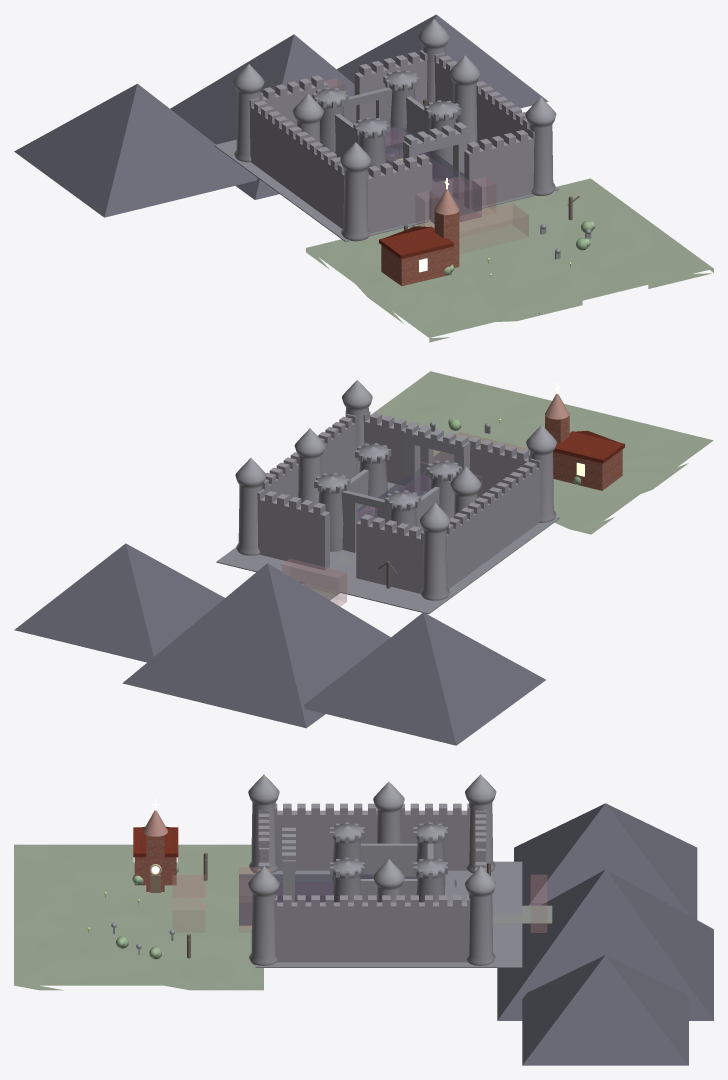
File: doubting_castle.glb
The picture shows the model from 3 angles, top to bottom: view 1: azimuth 30°, elevation 25°; view 2: azimuth 150°, elevation 25°; view 3: azimuth 270°, elevation 25°; orthographic projection.
Parts seen in each view (by area): view 1: ENV_Doubting_ByPathMeadow, VIS_PROP_Ridge_Storm (×3), PROP_CastleWall_Left, VIS_PROP_Chapel (×3), PROP_CastleWall_FrontR, PROP_CastleWall_FrontL, TRIGGER_ByPathChoice, ENV_Doubting_CastleExterior, COL_CastleDarkHall, PROP_CastleTower_FrontLeft, TRIGGER_Capture, PROP_CastleTower_FrontRight (+16 smaller); view 2: VIS_PROP_Ridge_Storm (×3), ENV_Doubting_ByPathMeadow, ENV_Doubting_CastleExterior, PROP_CastleWall_Left, PROP_CastleWall_BackR, PROP_CastleWall_BackL, VIS_PROP_Chapel (×2), PROP_CastleTower_BackLeft, PROP_CastleWall_Right, PROP_CastleTower_BackRight, PROP_CastleWall_FrontR, TRIGGER_Exit_DelectableMountains (+12 smaller); view 3: VIS_PROP_Ridge_Storm (×3), ENV_Doubting_ByPathMeadow, PROP_CastleWall_Right, PROP_CastleWall_Left, ENV_Doubting_CastleExterior, PROP_CastleTower_FrontRight, PROP_CastleTower_BackRight, VIS_PROP_Chapel (×3), TRIGGER_ByPathChoice, COL_CastleDarkHall, PROP_CastleTower_FrontLeft, PROP_CastleTower_BackLeft (+12 smaller).
Boxes of the visible parts, <box> form: ENV_Doubting_ByPathMeadow: <box>306,178,713,342</box>; VIS_PROP_Ridge_Storm (×3): <box>14,14,548,217</box>; PROP_CastleWall_Left: <box>250,107,344,228</box>; VIS_PROP_Chapel (×3): <box>379,208,459,286</box>; PROP_CastleWall_FrontR: <box>464,136,534,208</box>; PROP_CastleWall_FrontL: <box>367,161,432,233</box>; TRIGGER_ByPathChoice: <box>459,203,528,253</box>; ENV_Doubting_CastleExterior: <box>214,139,559,241</box>; COL_CastleDarkHall: <box>385,142,481,222</box>; PROP_CastleTower_FrontLeft: <box>340,142,371,241</box>; TRIGGER_Capture: <box>416,176,495,227</box>; PROP_CastleTower_FrontRight: <box>525,97,556,195</box>; VIS_PROP_Ridge_Storm (×3): <box>14,543,545,745</box>; ENV_Doubting_ByPathMeadow: <box>370,371,713,534</box>; ENV_Doubting_CastleExterior: <box>216,482,559,614</box>; PROP_CastleWall_Left: <box>446,468,540,589</box>; PROP_CastleWall_BackR: <box>257,497,329,570</box>; PROP_CastleWall_BackL: <box>356,520,423,593</box>; VIS_PROP_Chapel (×2): <box>553,431,624,490</box>; PROP_CastleTower_BackLeft: <box>419,502,450,600</box>; PROP_CastleWall_Right: <box>265,422,356,499</box>; PROP_CastleTower_BackRight: <box>235,458,266,555</box>; PROP_CastleWall_FrontR: <box>364,418,433,491</box>; TRIGGER_Exit_DelectableMountains: <box>282,559,346,606</box>; VIS_PROP_Ridge_Storm (×3): <box>497,803,713,1065</box>; ENV_Doubting_ByPathMeadow: <box>14,844,263,990</box>; PROP_CastleWall_Right: <box>274,902,469,962</box>; PROP_CastleWall_Left: <box>274,810,469,870</box>; ENV_Doubting_CastleExterior: <box>255,861,522,967</box>; PROP_CastleTower_FrontRight: <box>248,866,279,965</box>; PROP_CastleTower_BackRight: <box>465,866,496,965</box>; VIS_PROP_Chapel (×3): <box>133,827,178,891</box>; TRIGGER_ByPathChoice: <box>172,875,205,931</box>; COL_CastleDarkHall: <box>239,874,372,924</box>; PROP_CastleTower_FrontLeft: <box>248,774,279,873</box>; PROP_CastleTower_BackLeft: <box>465,774,496,873</box>.
Bounding box in the file's own units: 63 × 19.6 × 84.
Materials: 38 (2 with a texture image).
